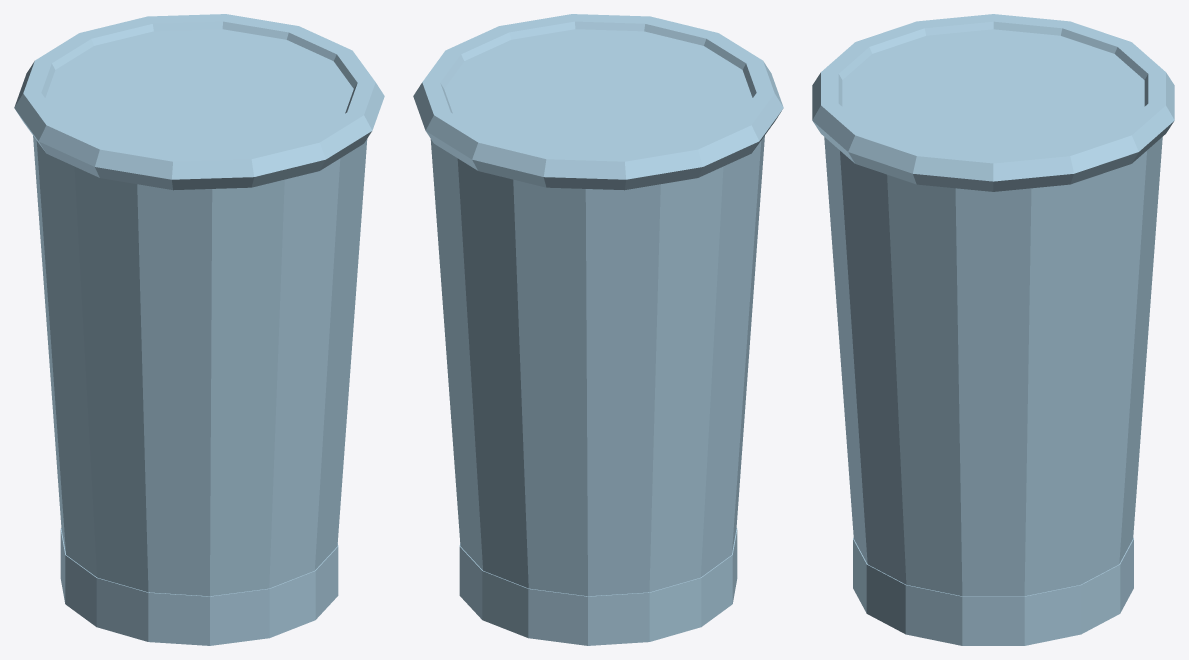
File: glass.glb
3 renders of one model, left to right at view 1: azimuth 30°, elevation 25°; view 2: azimuth 150°, elevation 25°; view 3: azimuth 270°, elevation 25°, orthographic.
Parts seen in each view (by area): view 1: glass; view 2: glass; view 3: glass.
Boxes of the visible parts, bbox=[...] form: glass: bbox=[14, 14, 384, 645]; glass: bbox=[413, 14, 783, 645]; glass: bbox=[812, 14, 1174, 645].
Bounding box in the file's own units: 0.082 × 0.1215 × 0.0799.
